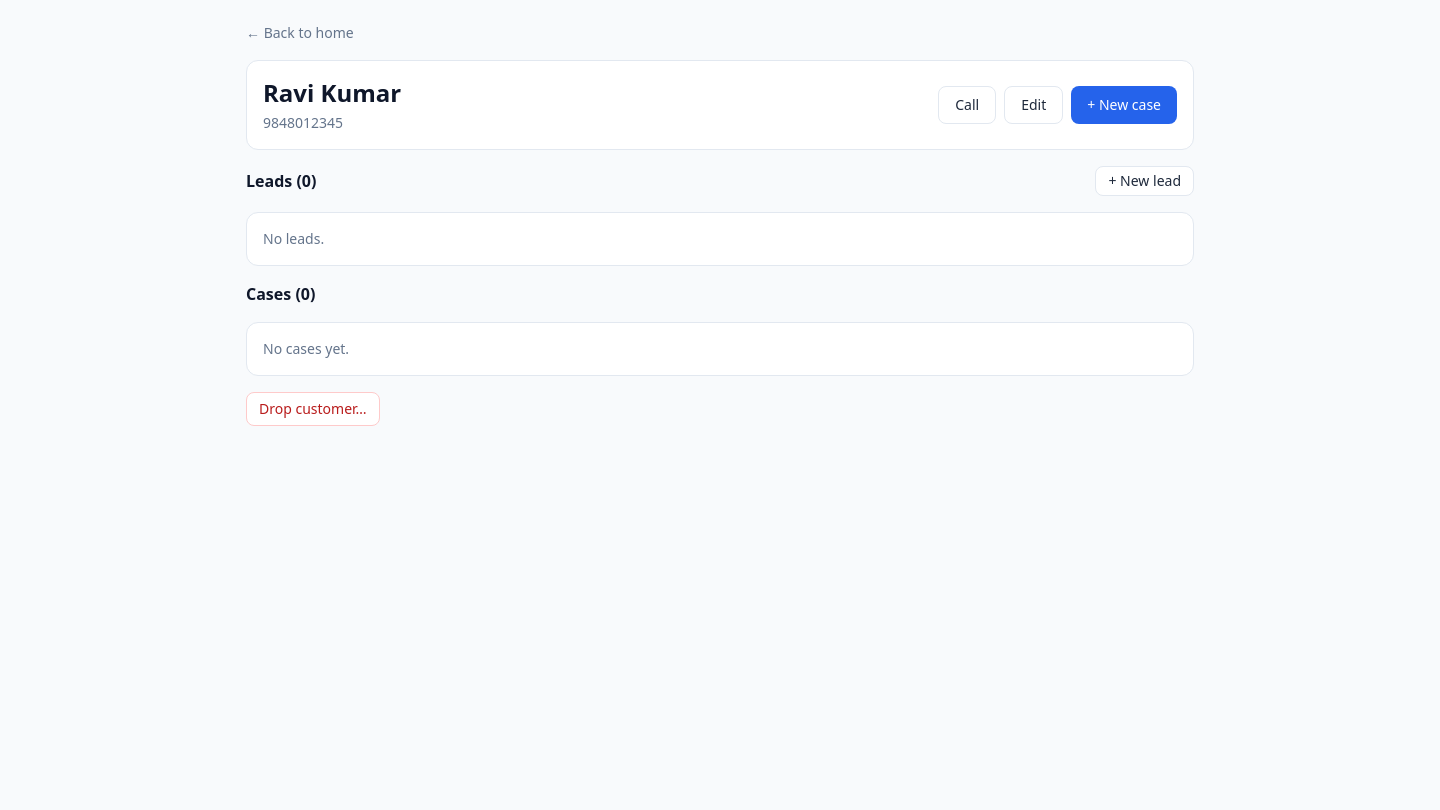
Test: Customer page › + New lead opens the new project form
The width and height of the screenshot is (1440, 810).
Click the button "+ New lead" at x=1145, y=181, box left=1096, top=166, right=1194, bottom=196
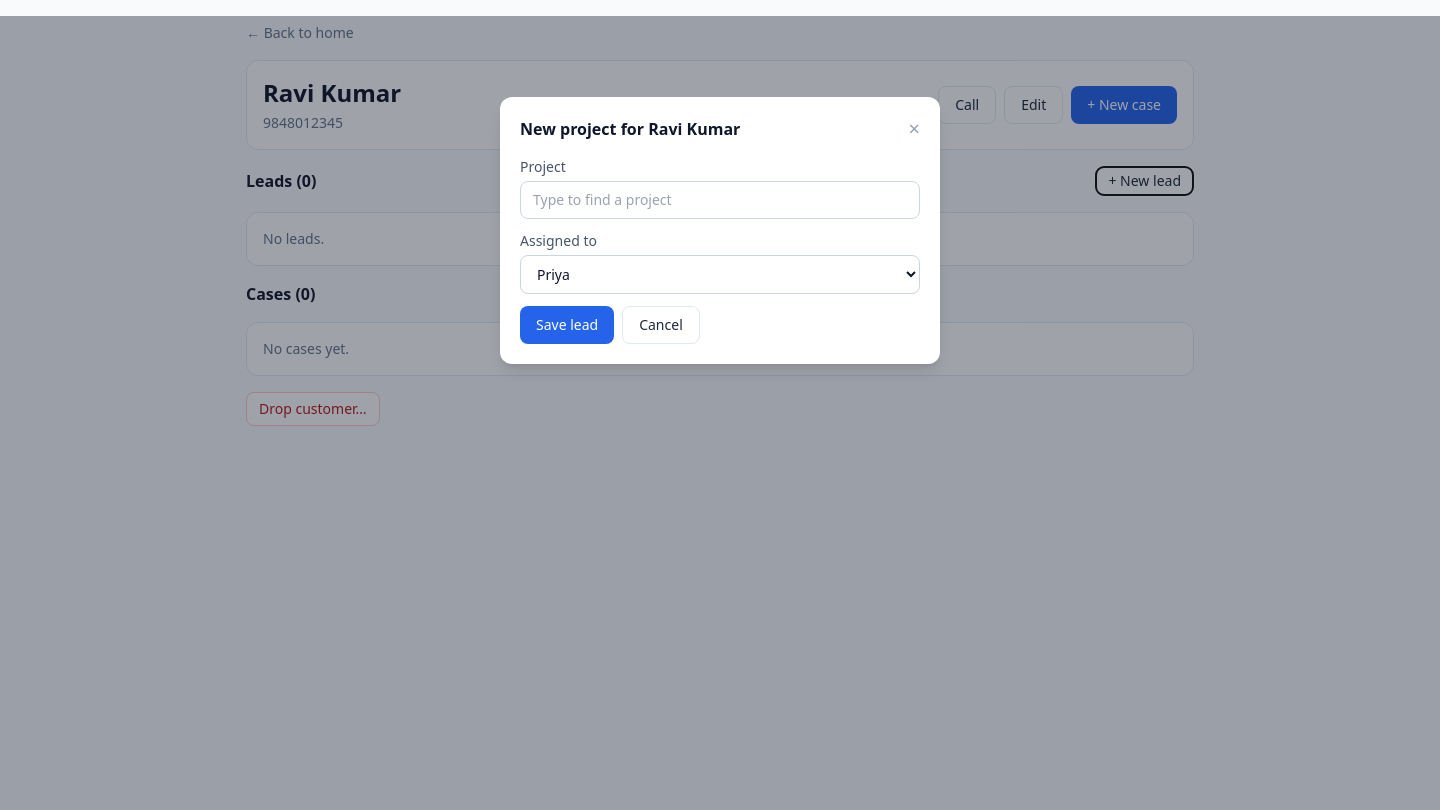
Check: the dialog "New project for Ravi Kumar" is shown, box left=500, top=97, right=940, bottom=364
